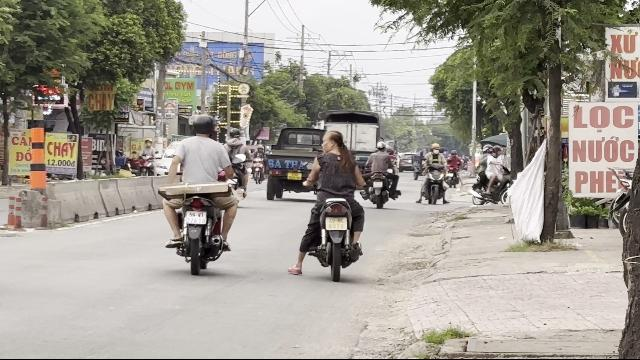helmet: (190, 112, 214, 139)
licenseplate: (185, 211, 207, 224), (326, 218, 348, 230)
motorcyclist: (156, 112, 240, 272), (295, 127, 367, 279)
nohelmet: (320, 129, 346, 155)
